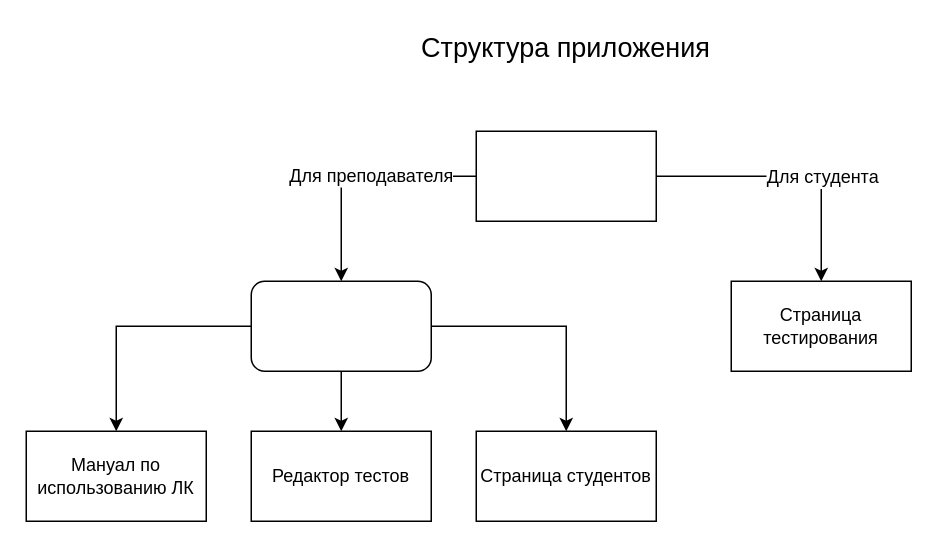
Some shapes in this 938 by 548 pixel diagram are drawn without their labels. The shapes that lost their labels are listed below. From the top down, each one's centre as x and y in pixels, then its label:
At point (565, 175): "Главная страница".
At point (340, 325): "Личный кабинет преподавателя".
